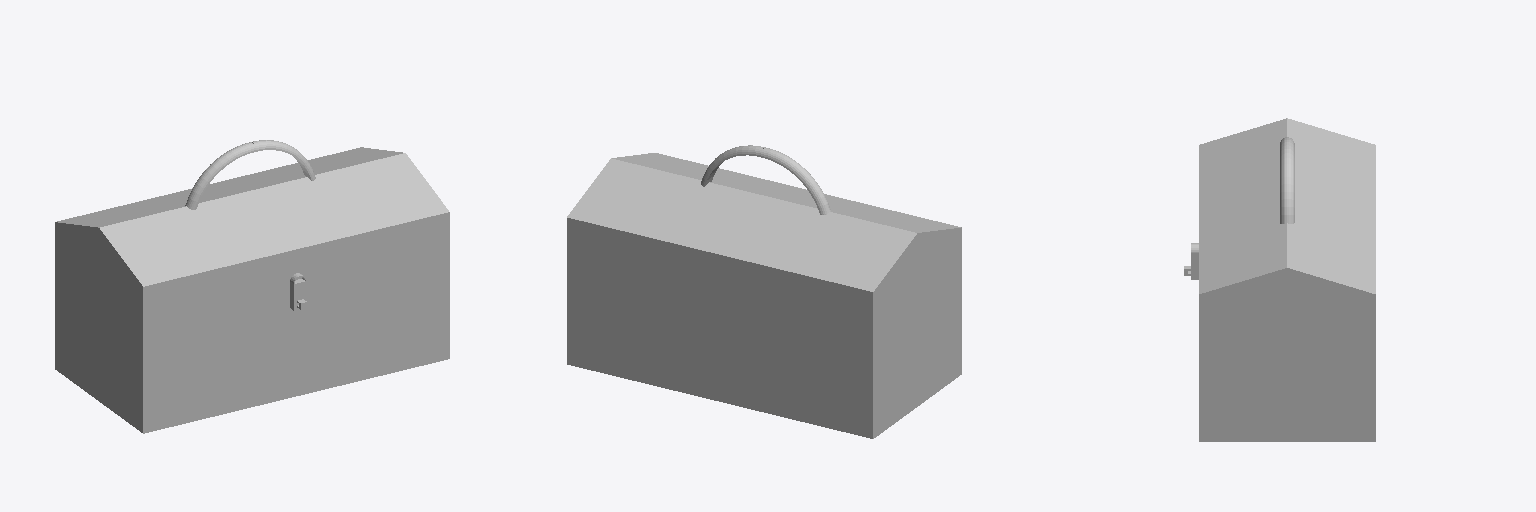
File: caixa de ferramentas.obj
3 views of the same model, side by side, from view 1: azimuth 30°, elevation 25°; view 2: azimuth 150°, elevation 25°; view 3: azimuth 270°, elevation 25° (orthographic).
Visible parts, largest first — view 1: Mesh2 Group1 Component_36_1 Model, Mesh1 Group1 Component_36_1 Model; view 2: Mesh2 Group1 Component_36_1 Model, Mesh1 Group1 Component_36_1 Model; view 3: Mesh2 Group1 Component_36_1 Model, Mesh1 Group1 Component_36_1 Model.
Part boxes in pixels (x1,y1,x2,y2): Mesh2 Group1 Component_36_1 Model: (55,147,449,433); Mesh1 Group1 Component_36_1 Model: (185,140,315,209); Mesh2 Group1 Component_36_1 Model: (567,153,961,438); Mesh1 Group1 Component_36_1 Model: (701,145,830,214); Mesh2 Group1 Component_36_1 Model: (1184,118,1375,441); Mesh1 Group1 Component_36_1 Model: (1280,137,1294,223).
Size of the model in its own units: 0.79 by 0.5456 by 0.4279.